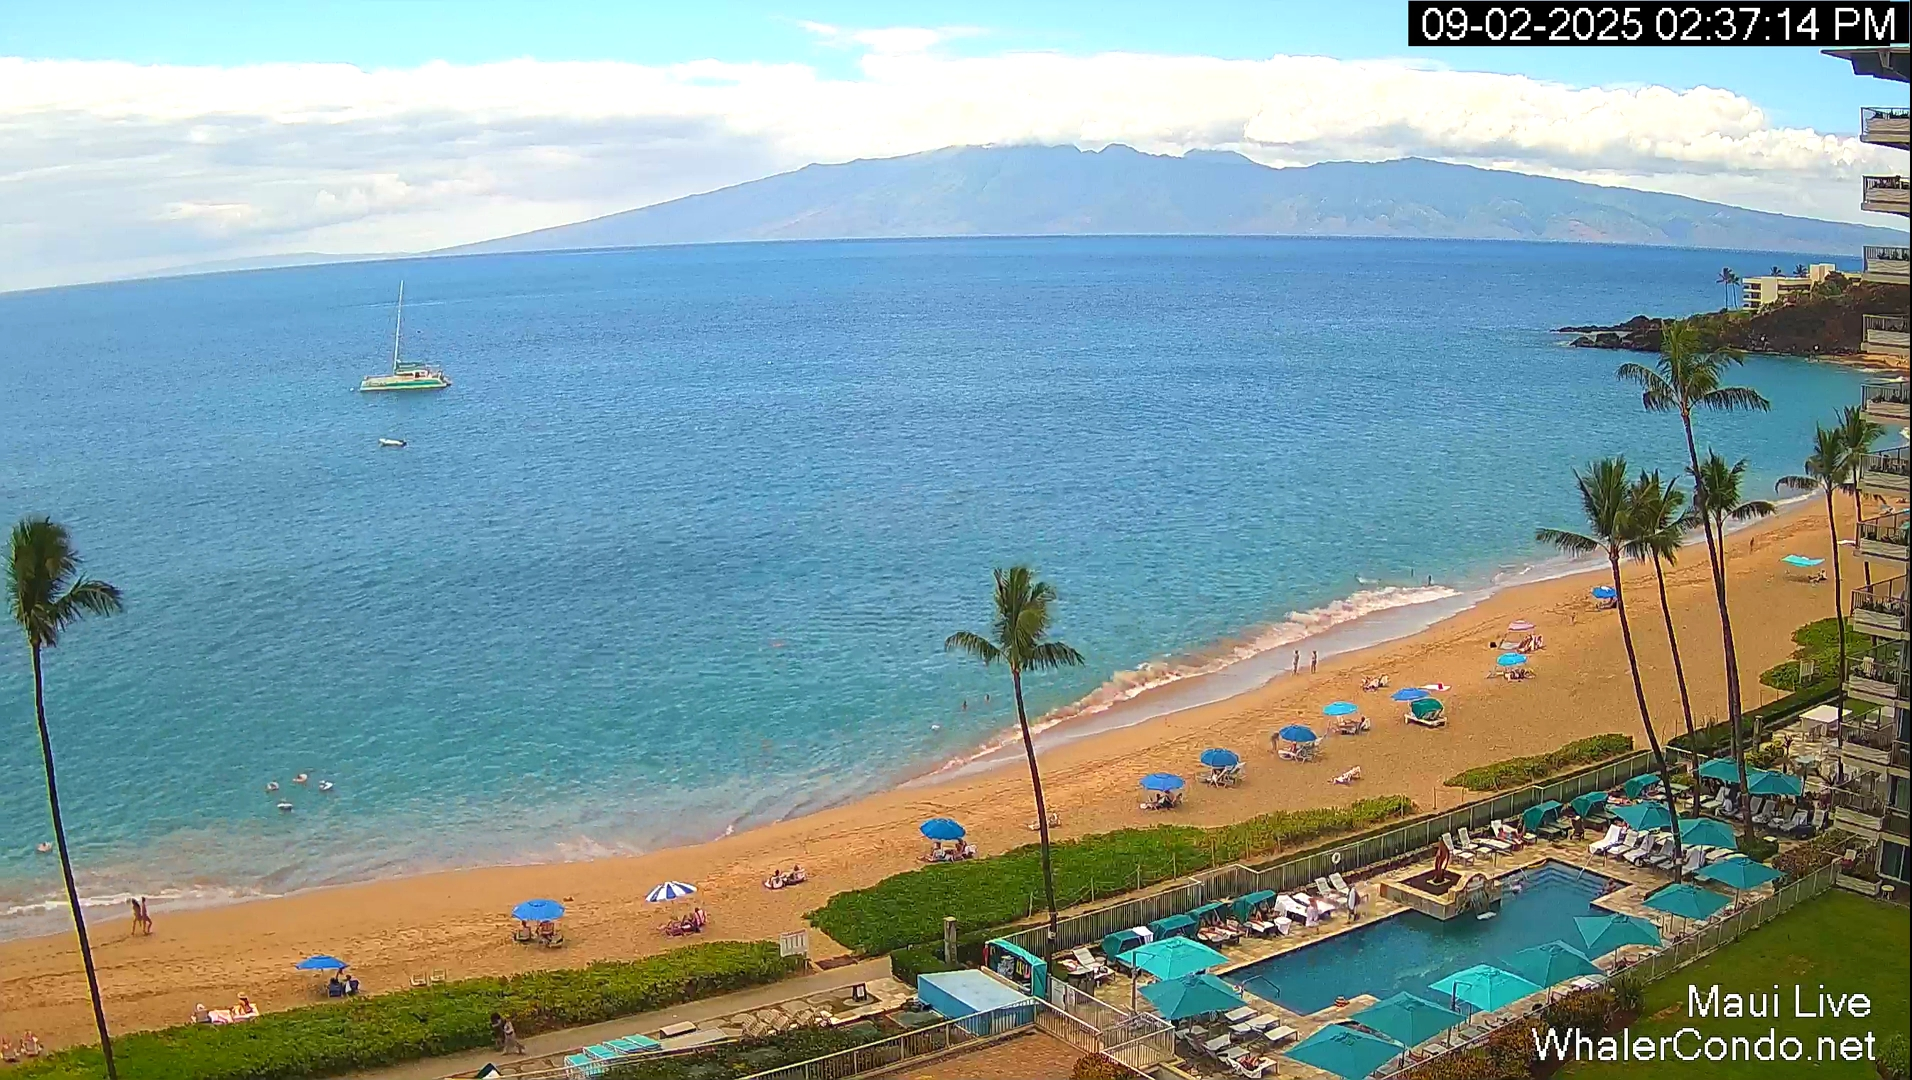boat: (358, 280, 451, 393), (563, 1032, 640, 1079), (1780, 554, 1826, 568), (378, 438, 407, 447), (764, 876, 784, 889), (319, 780, 333, 791)
person: (190, 992, 259, 1025), (500, 1017, 527, 1056), (490, 1012, 505, 1051), (130, 898, 144, 936), (1305, 899, 1320, 933), (140, 896, 153, 935), (234, 992, 255, 1016), (512, 1024, 527, 1055), (1346, 886, 1358, 923), (344, 974, 360, 995), (517, 920, 531, 941), (1291, 649, 1300, 676), (694, 907, 706, 925), (1310, 650, 1318, 674)
